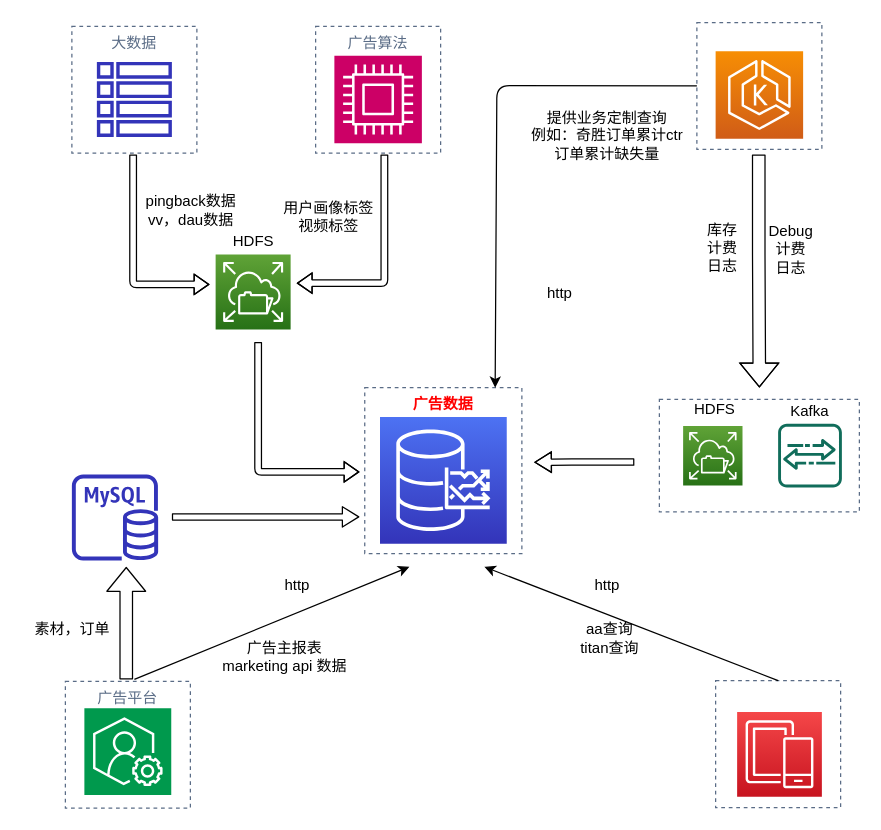
This 881x830 diagram has some shape labels left out. The shapes that lost their labels are listed below. From the top down, each one's box as (x1, y1, x2, y2) in pixels, then its label:
(696, 21, 822, 149): 广告引擎
(714, 679, 841, 808): 广告前端
